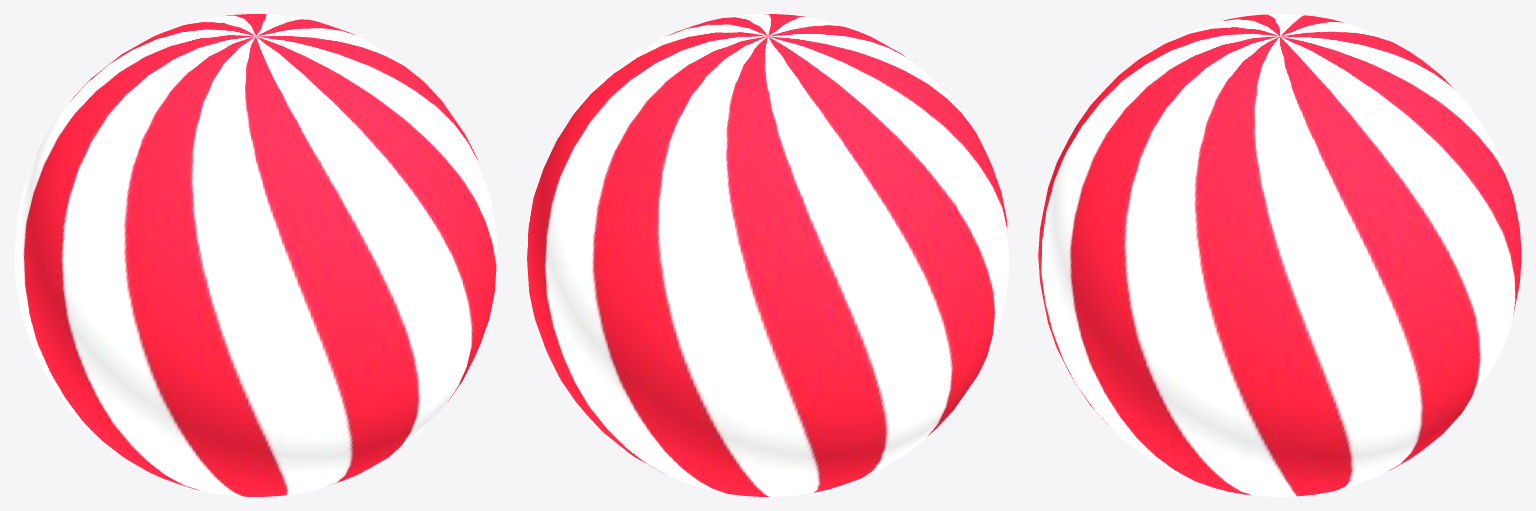
Rendered from pp_ball.glb.
The picture shows the model from 3 angles, left to right: view 1: azimuth 30°, elevation 25°; view 2: azimuth 150°, elevation 25°; view 3: azimuth 270°, elevation 25°; orthographic projection.
Parts seen in each view (by area): view 1: Ball; view 2: Ball; view 3: Ball.
Boxes of the visible parts, box(x1,y1,x2,y2) form: Ball: box(14, 14, 497, 496); Ball: box(526, 14, 1009, 496); Ball: box(1038, 14, 1521, 496).
Bounding box in the file's own units: 0.027 × 0.027 × 0.027.
Materials: 1 (1 with a texture image).
